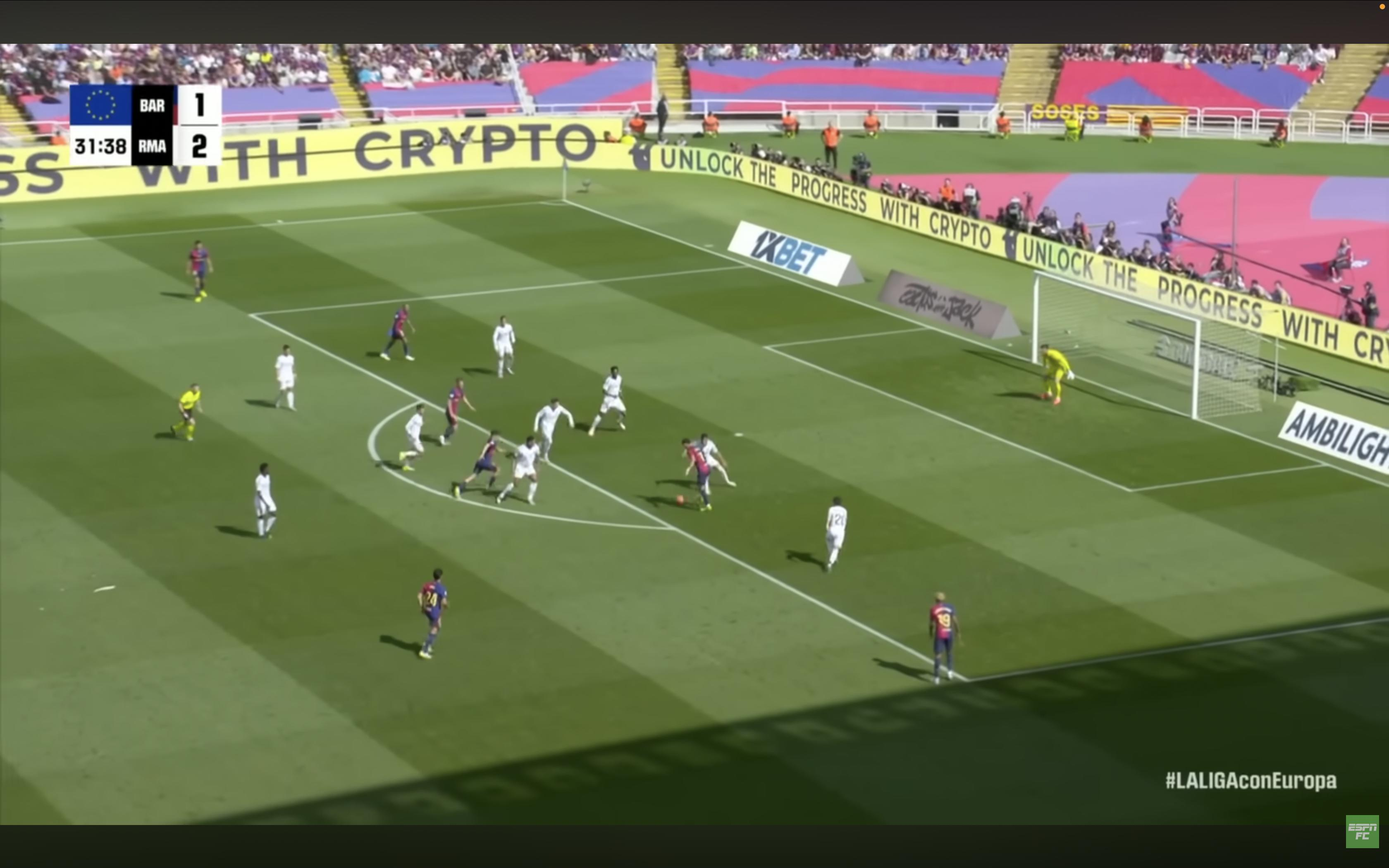ball: (675, 494, 688, 507)
goalkeeper: (1039, 344, 1075, 404)
player: (452, 430, 499, 498), (496, 436, 540, 505), (417, 568, 448, 659), (533, 398, 575, 462), (588, 366, 626, 436), (930, 593, 959, 684), (438, 378, 475, 446), (681, 439, 712, 511), (699, 433, 736, 486), (380, 304, 414, 360), (398, 405, 425, 471), (824, 496, 847, 572), (255, 463, 277, 538), (188, 241, 212, 302), (493, 316, 516, 378), (274, 345, 295, 410)
referee: (170, 383, 202, 440)
